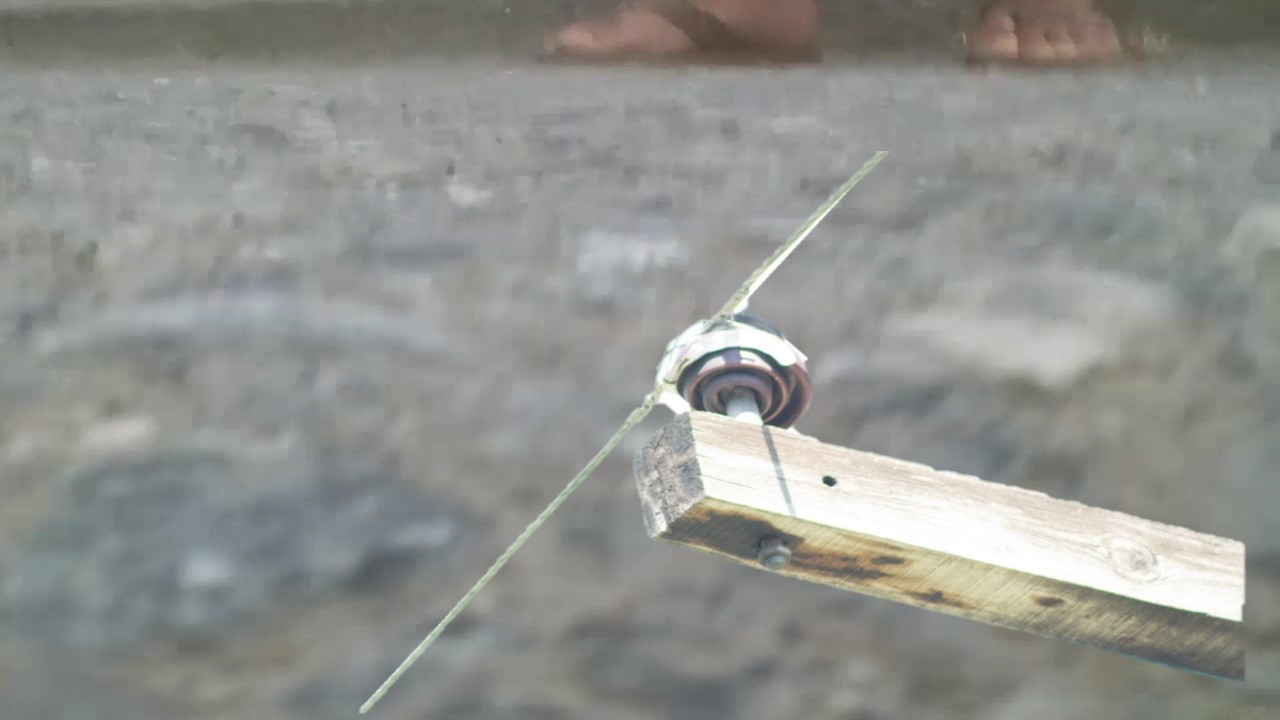defect_pin: (652, 304, 819, 435)
